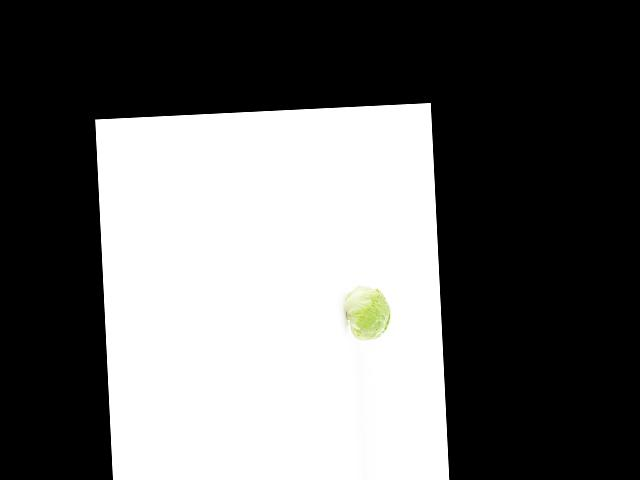lettuce: (346, 284, 393, 347)
